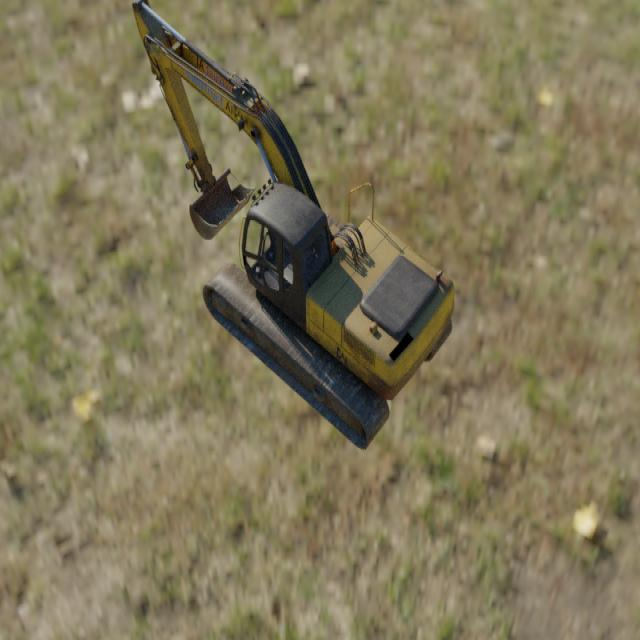excavator: (131, 0, 454, 451)
